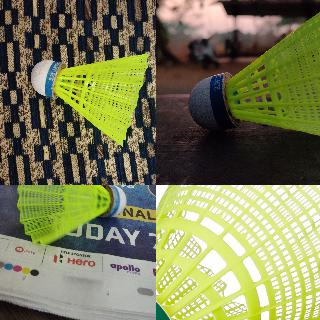shuttlecock: (156, 185, 319, 319), (189, 0, 319, 144), (30, 54, 150, 146), (17, 185, 126, 246)
